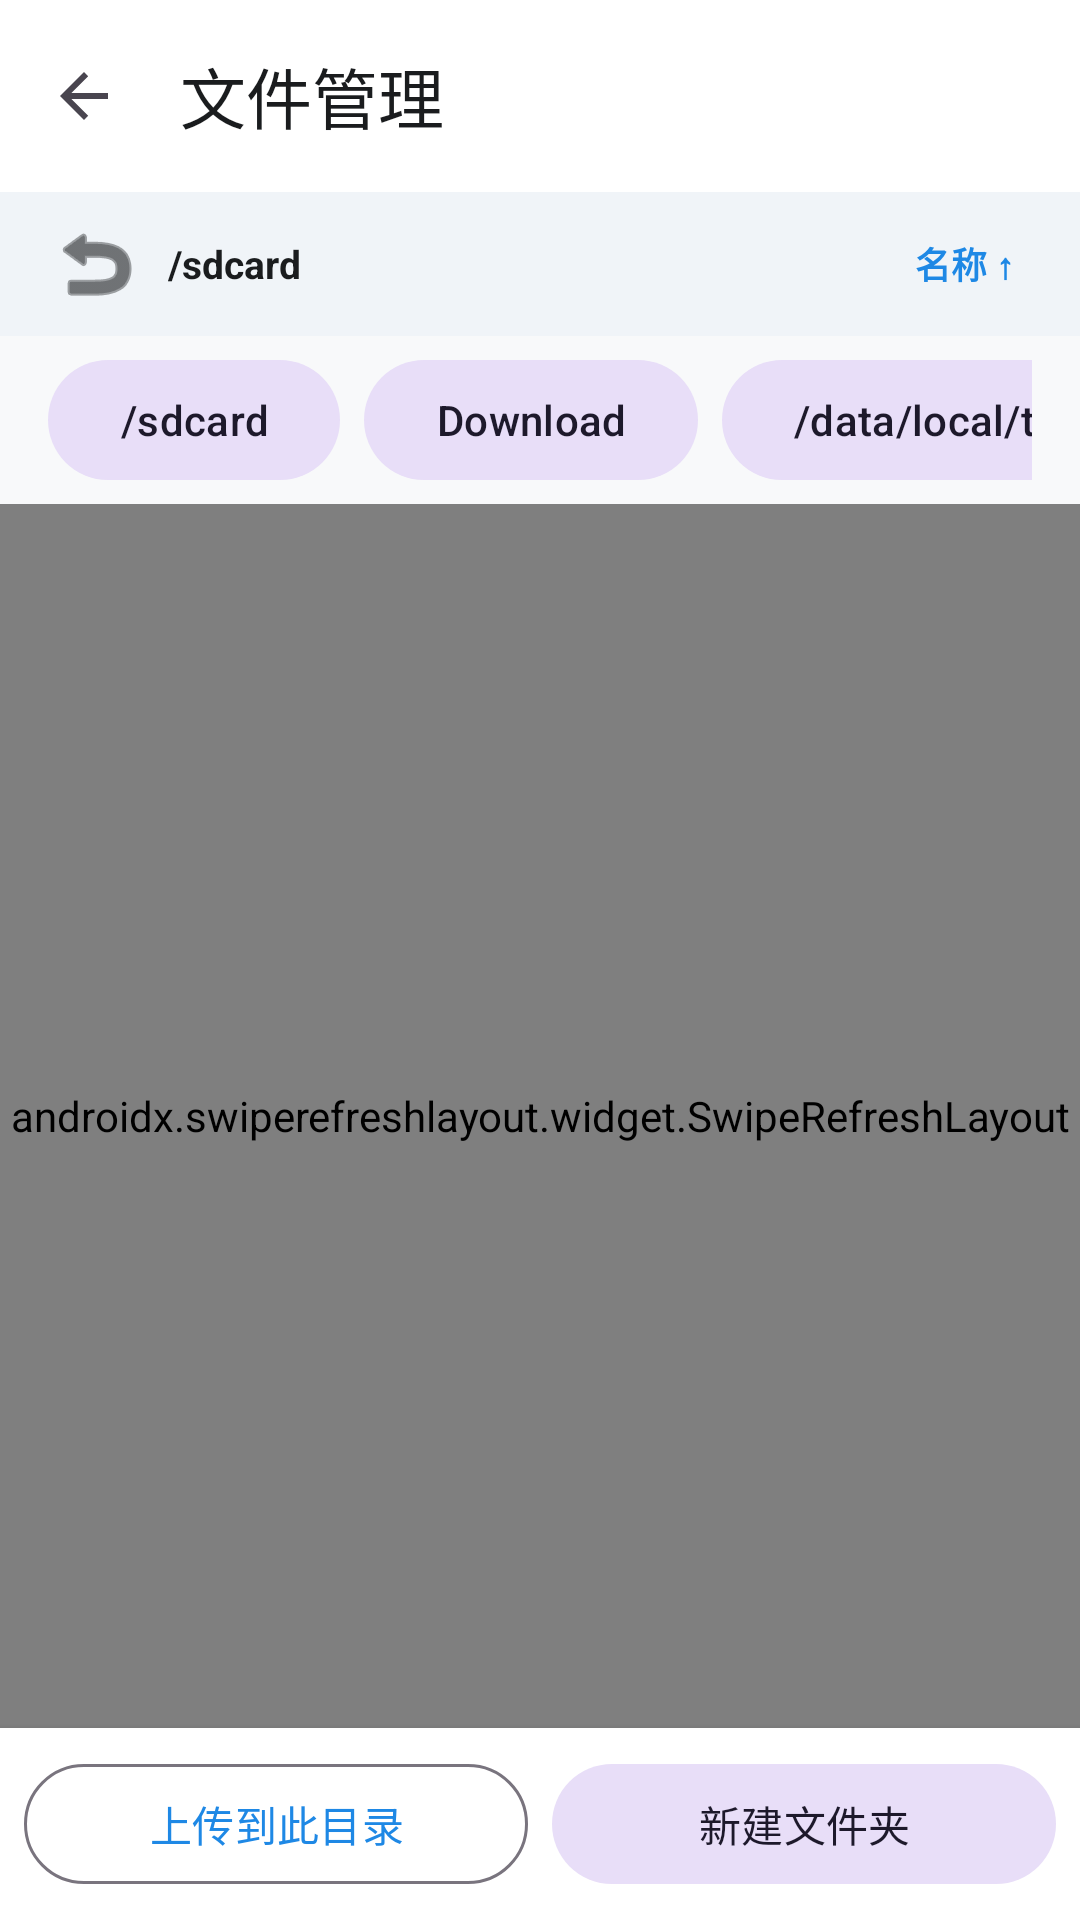

Where icons sit on this 1080×1920 app screen, as box=[x1, y1, x2, y2]:
revert: box=[63, 233, 132, 296]
